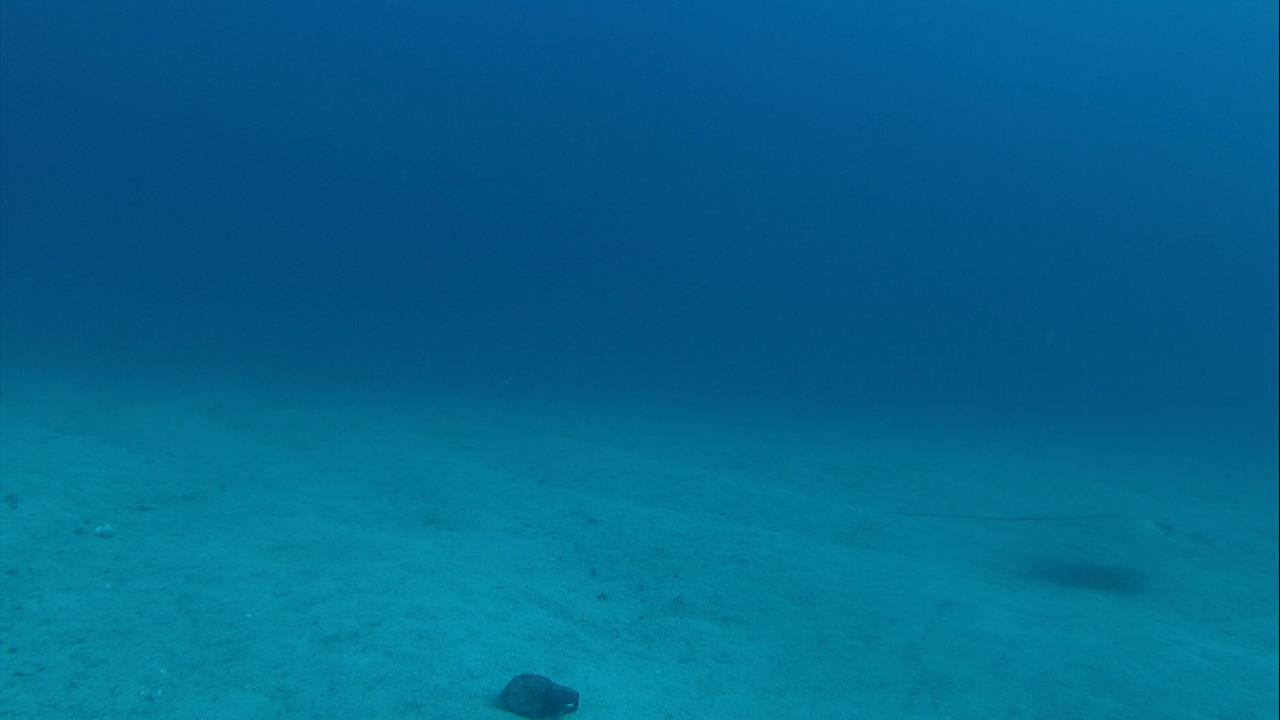myliobatis: (872, 500, 1211, 560)
